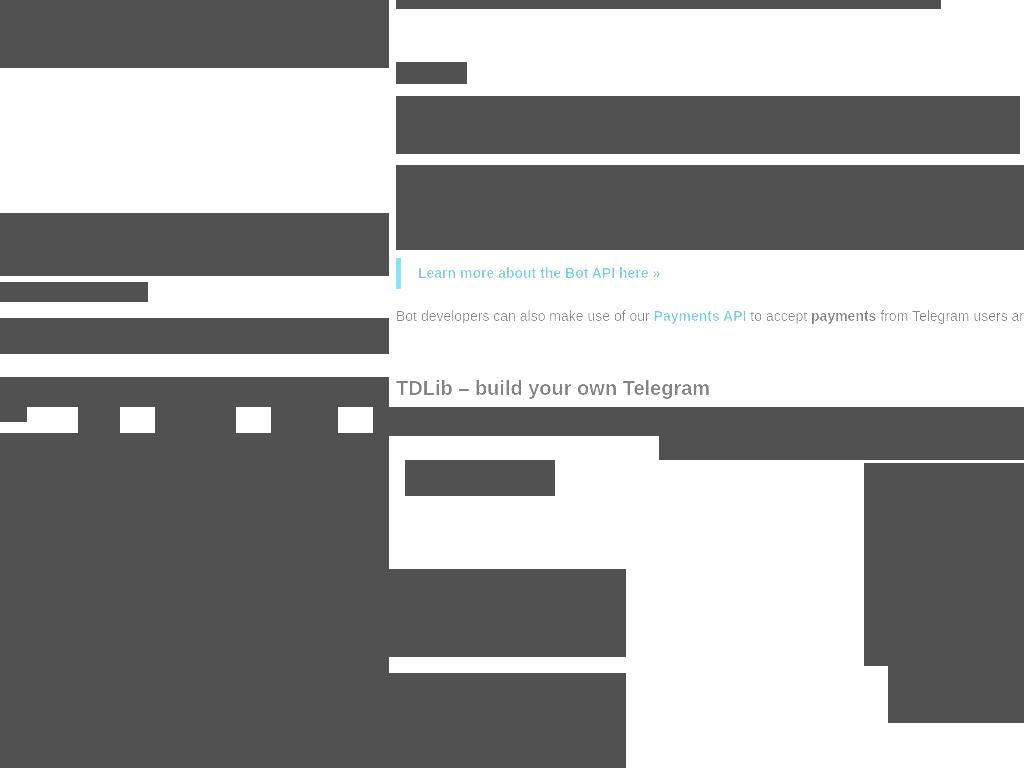button: (888, 569, 1024, 723), (0, 0, 182, 65), (405, 460, 555, 496), (155, 407, 236, 433), (271, 407, 338, 433), (993, 627, 1024, 663), (78, 407, 120, 433), (193, 52, 242, 68)
heading: (0, 213, 389, 276), (389, 569, 626, 657), (396, 377, 710, 399), (170, 0, 242, 38), (396, 62, 467, 84)
image: (0, 433, 303, 768), (864, 463, 1024, 666), (303, 433, 389, 768), (0, 0, 389, 68), (888, 569, 1024, 719), (659, 407, 865, 460), (864, 407, 1024, 460)
link: (418, 265, 660, 281), (711, 96, 808, 112), (653, 308, 746, 324), (604, 0, 727, 9), (746, 0, 856, 9)
text: (0, 433, 389, 768), (396, 165, 1024, 250), (396, 96, 1020, 154), (389, 673, 626, 768), (389, 407, 1024, 436), (0, 318, 389, 354), (0, 377, 389, 407), (0, 48, 389, 68), (396, 96, 712, 112), (396, 308, 654, 324), (0, 282, 148, 302), (413, 469, 547, 487), (876, 308, 1024, 324), (396, 0, 605, 9), (746, 308, 812, 324), (811, 308, 877, 324), (855, 0, 941, 9), (1009, 636, 1024, 654), (726, 0, 747, 9)
